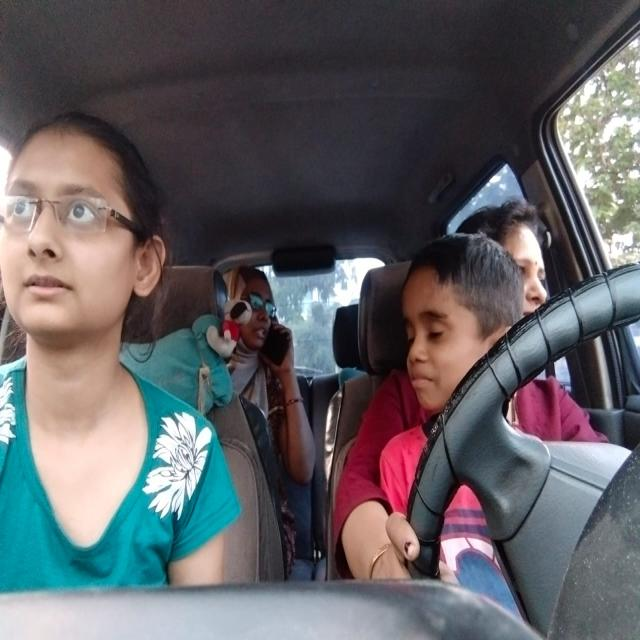child: (400, 226, 530, 426)
person: (4, 100, 166, 387), (464, 195, 566, 350), (240, 255, 289, 370)
